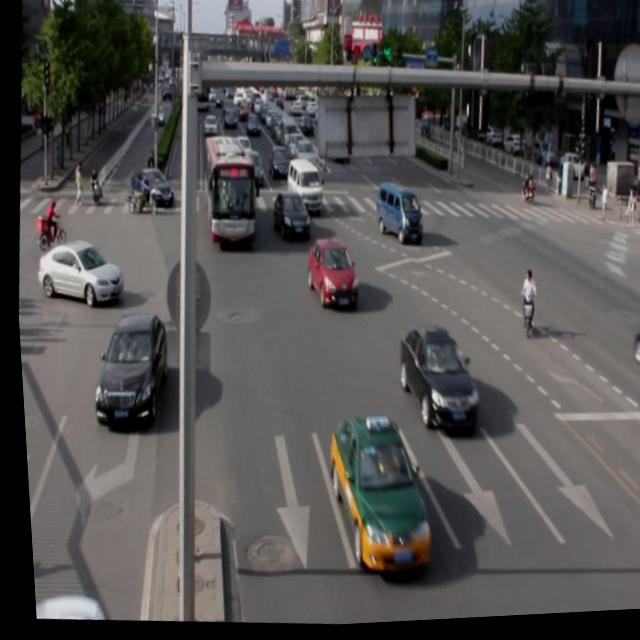car: (314, 415, 432, 580), (85, 306, 168, 430), (389, 324, 479, 437), (300, 236, 357, 316), (266, 190, 310, 245), (624, 323, 640, 386)
truck: (369, 182, 421, 246), (282, 158, 323, 217)
van: (195, 136, 258, 251)
